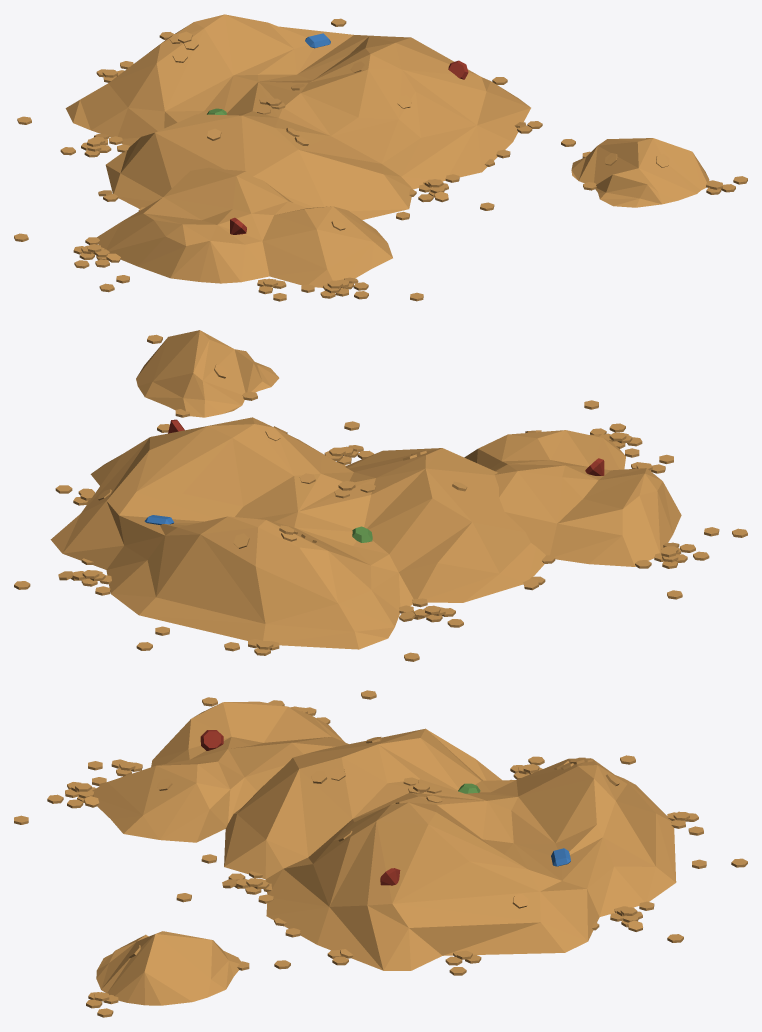
File: SM_Prop_TreasurePile_03.glb
3 views of the same model, one above another, from view 1: azimuth 30°, elevation 25°; view 2: azimuth 150°, elevation 25°; view 3: azimuth 270°, elevation 25° (orthographic). The views are drawn at different scales.
Parts seen in each view (by area): view 1: SM_Prop_TreasurePile_03_part00; view 2: SM_Prop_TreasurePile_03_part00; view 3: SM_Prop_TreasurePile_03_part00.
Part boxes in pixels (x1,y1,x2,y2): SM_Prop_TreasurePile_03_part00: (14, 14, 747, 301); SM_Prop_TreasurePile_03_part00: (14, 330, 747, 661); SM_Prop_TreasurePile_03_part00: (14, 690, 747, 1017).
Bounding box in the file's own units: 3.9 × 0.502 × 3.72.
1 material, 1 textured.
